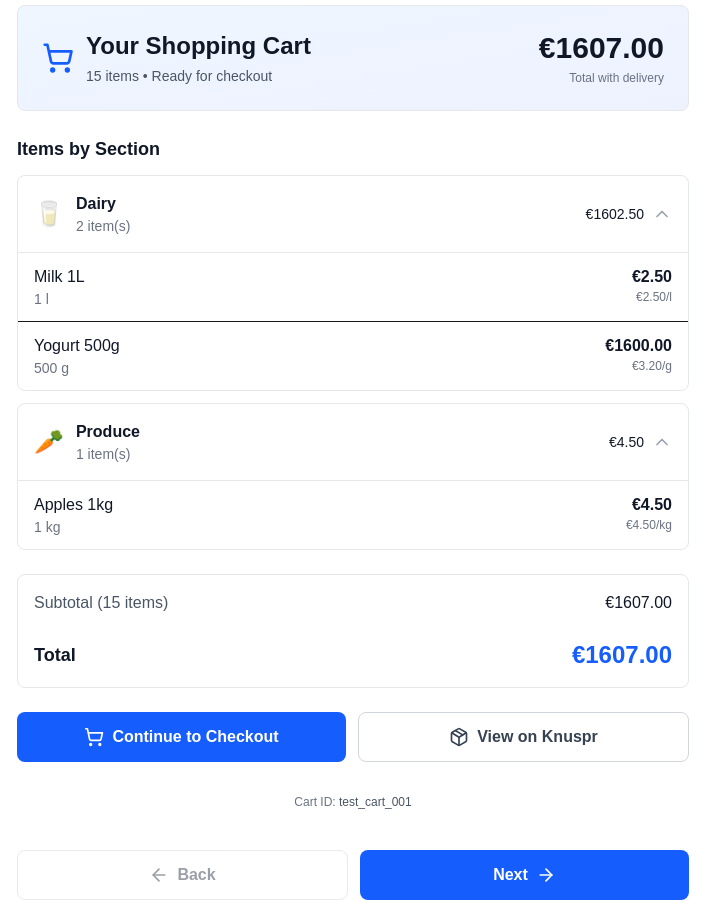
Test: CheckoutFlow Component › Step 3: Confirmation › renders confirmation step after selecting delivery slot
The width and height of the screenshot is (710, 900).
(page scrolled)
Go to delivery step
Click the button "Next" at point(524, 875), box x1=360 y1=850 x2=689 y2=899
(page scrolled)
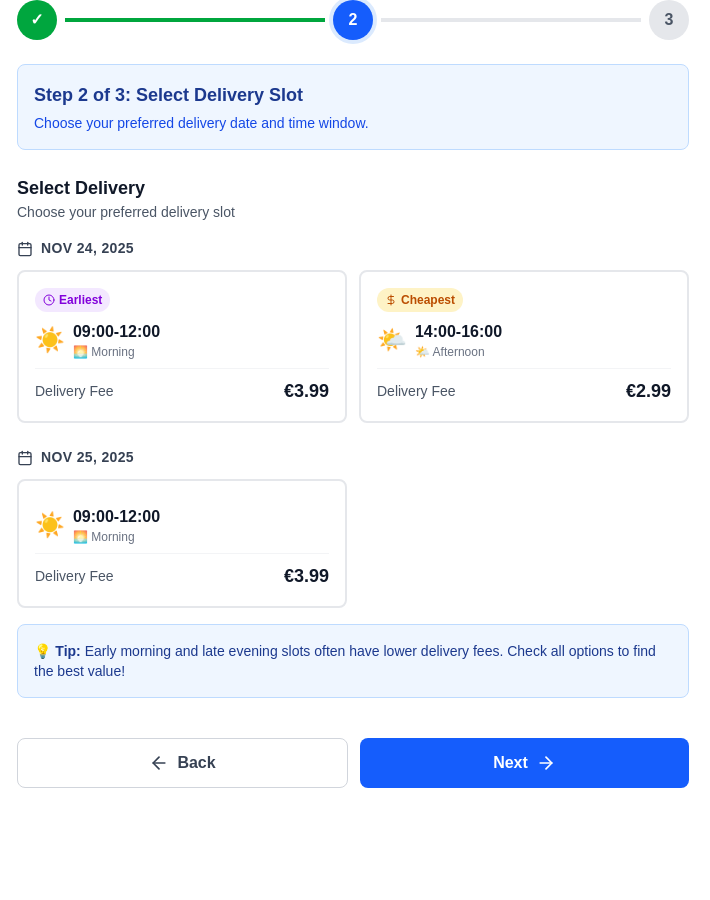
Check: the heading "Step 2 of 3: Select Delivery Slot" is shown, box x1=34 y1=85 x2=303 y2=105
Click the button "Earliest ☀️ 09:00-12:00 🌅 Morning Delivery Fee €3.99" at point(73, 300), box x1=17 y1=270 x2=347 y2=423
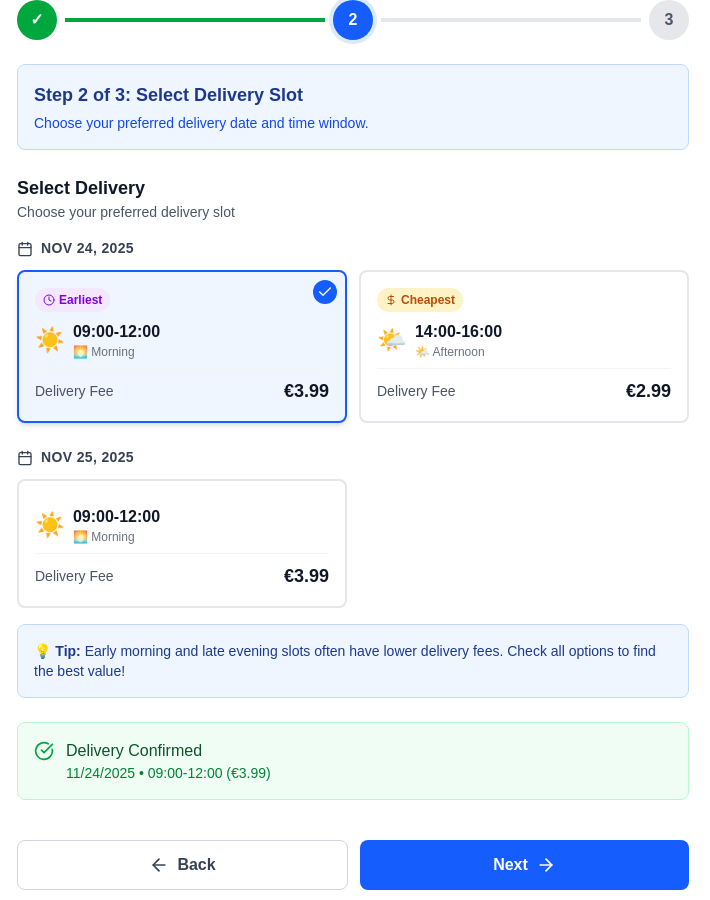
Go to confirmation
Click the button "Next" at point(524, 865), box x1=360 y1=840 x2=689 y2=890
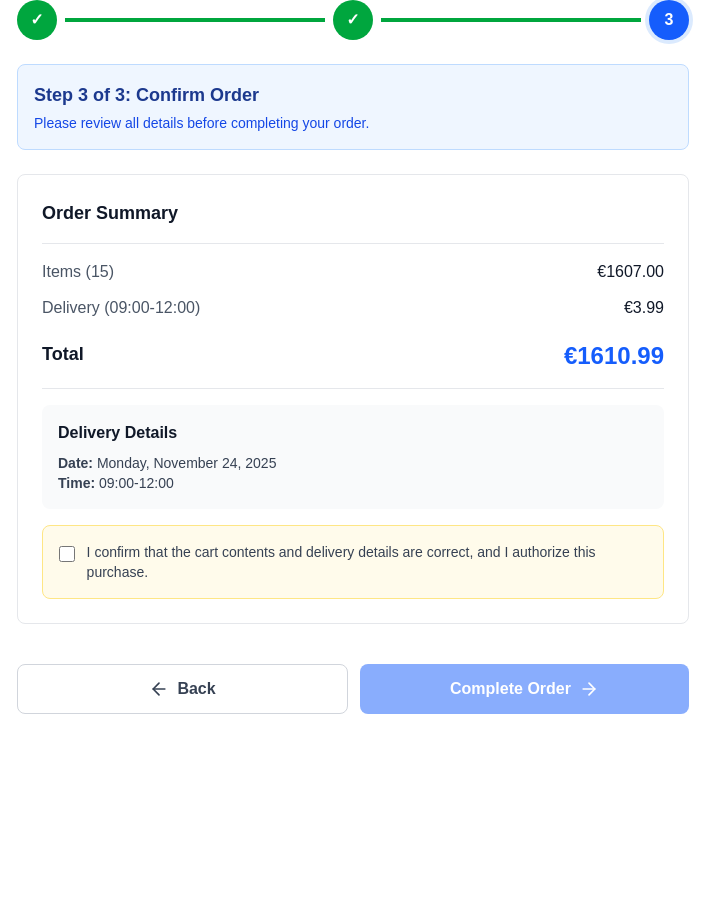
Check: the heading "Step 3 of 3: Confirm Order" is shown, box x1=34 y1=85 x2=259 y2=105
